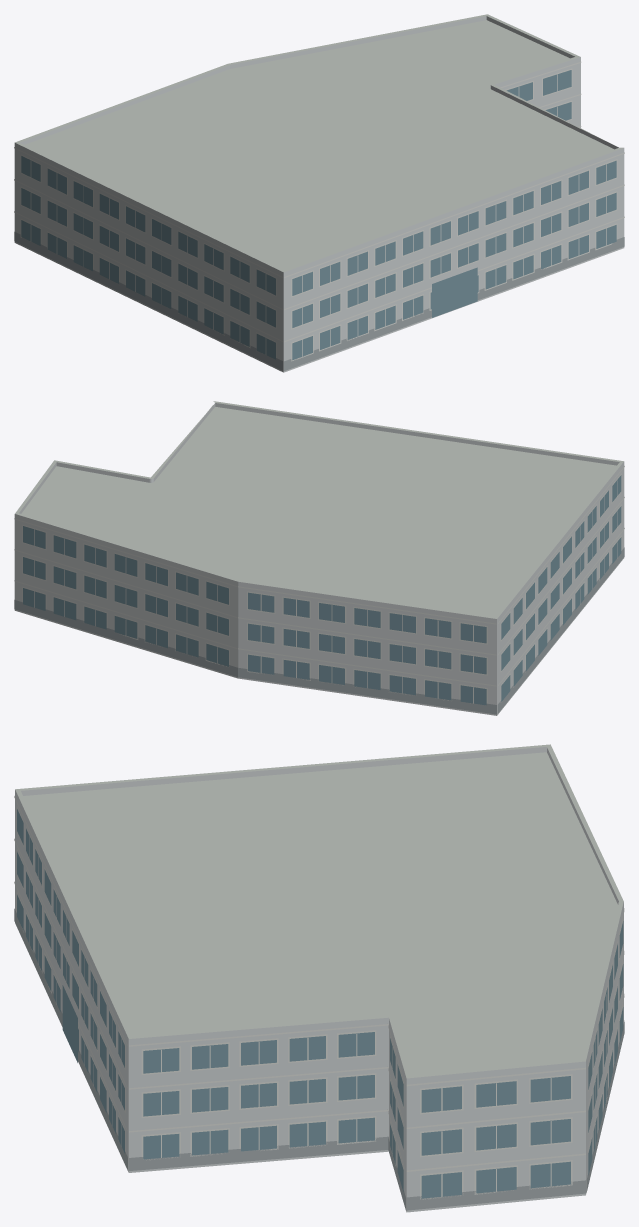
The model's file is public-85df5e73-7936-46bc-9af8-56aeff625bdd.glb.
The picture shows the model from 3 angles, top to bottom: view 1: azimuth 30°, elevation 25°; view 2: azimuth 150°, elevation 25°; view 3: azimuth 270°, elevation 25°; orthographic projection. The views are drawn at different scales.
Parts seen in each view (by area): view 1: public-85df5e73-7936-46bc-9af8-56aeff625bdd; view 2: public-85df5e73-7936-46bc-9af8-56aeff625bdd; view 3: public-85df5e73-7936-46bc-9af8-56aeff625bdd.
Boxes of the visible parts, bbox=[...] form: public-85df5e73-7936-46bc-9af8-56aeff625bdd: bbox=[14, 14, 624, 372]; public-85df5e73-7936-46bc-9af8-56aeff625bdd: bbox=[14, 401, 624, 715]; public-85df5e73-7936-46bc-9af8-56aeff625bdd: bbox=[14, 744, 624, 1212].
Size of the model in its own units: 49.05 by 9.15 by 37.81.
